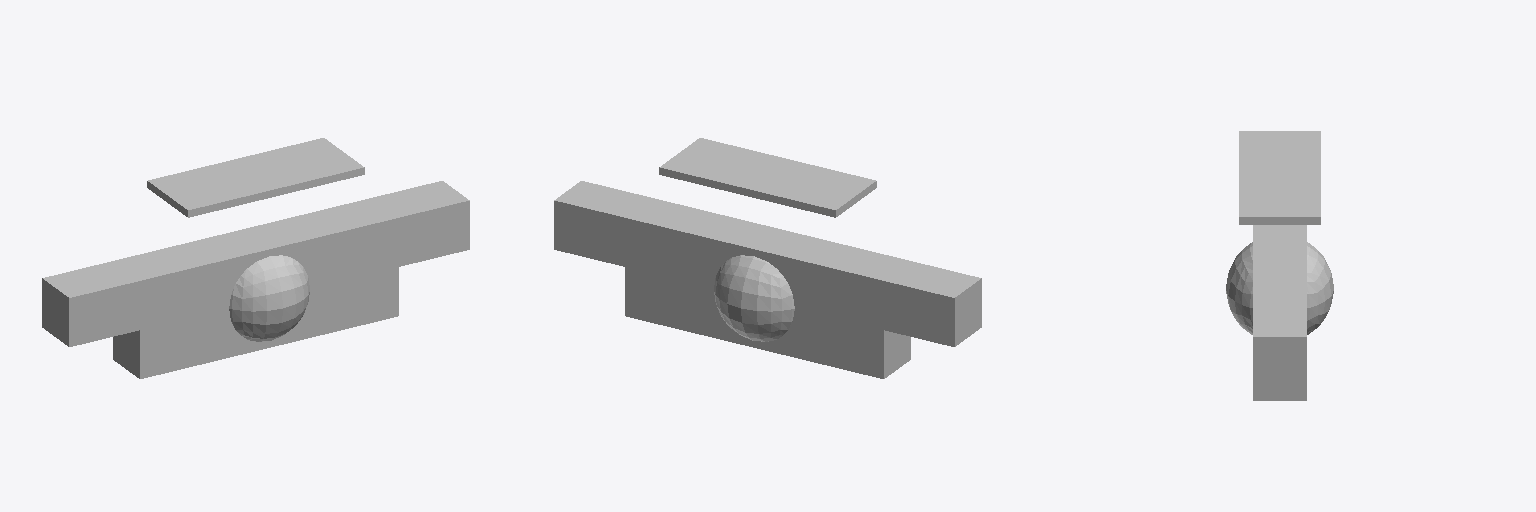
Rendered from GREGSTAGE for real.obj.
3 views of the same model, side by side, from view 1: azimuth 30°, elevation 25°; view 2: azimuth 150°, elevation 25°; view 3: azimuth 270°, elevation 25° (orthographic).
Parts seen in each view (by area): view 1: Union1, Union2; view 2: Union1, Union2; view 3: Union1, Union2.
Part boxes in pixels (x1,y1,x2,y2): Union1: (42,181,469,378); Union2: (147,138,364,217); Union1: (554,181,981,378); Union2: (659,138,876,217); Union1: (1226,225,1333,400); Union2: (1239,131,1320,224).
Size of the model in its own units: 34 by 13.3 by 8.